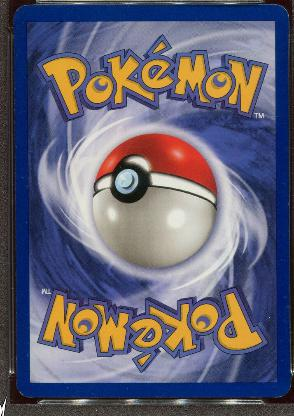Card: (9, 1, 291, 400)
Corner Wear: (269, 378, 291, 398), (17, 389, 34, 399)
Edge Wear: (13, 84, 16, 144), (14, 152, 16, 214), (13, 30, 15, 60), (15, 268, 16, 306), (245, 395, 263, 397)
Scratch: (13, 6, 20, 12), (284, 303, 288, 309), (278, 359, 283, 363), (14, 144, 18, 148), (282, 296, 286, 298), (21, 176, 25, 178), (26, 185, 28, 187)
